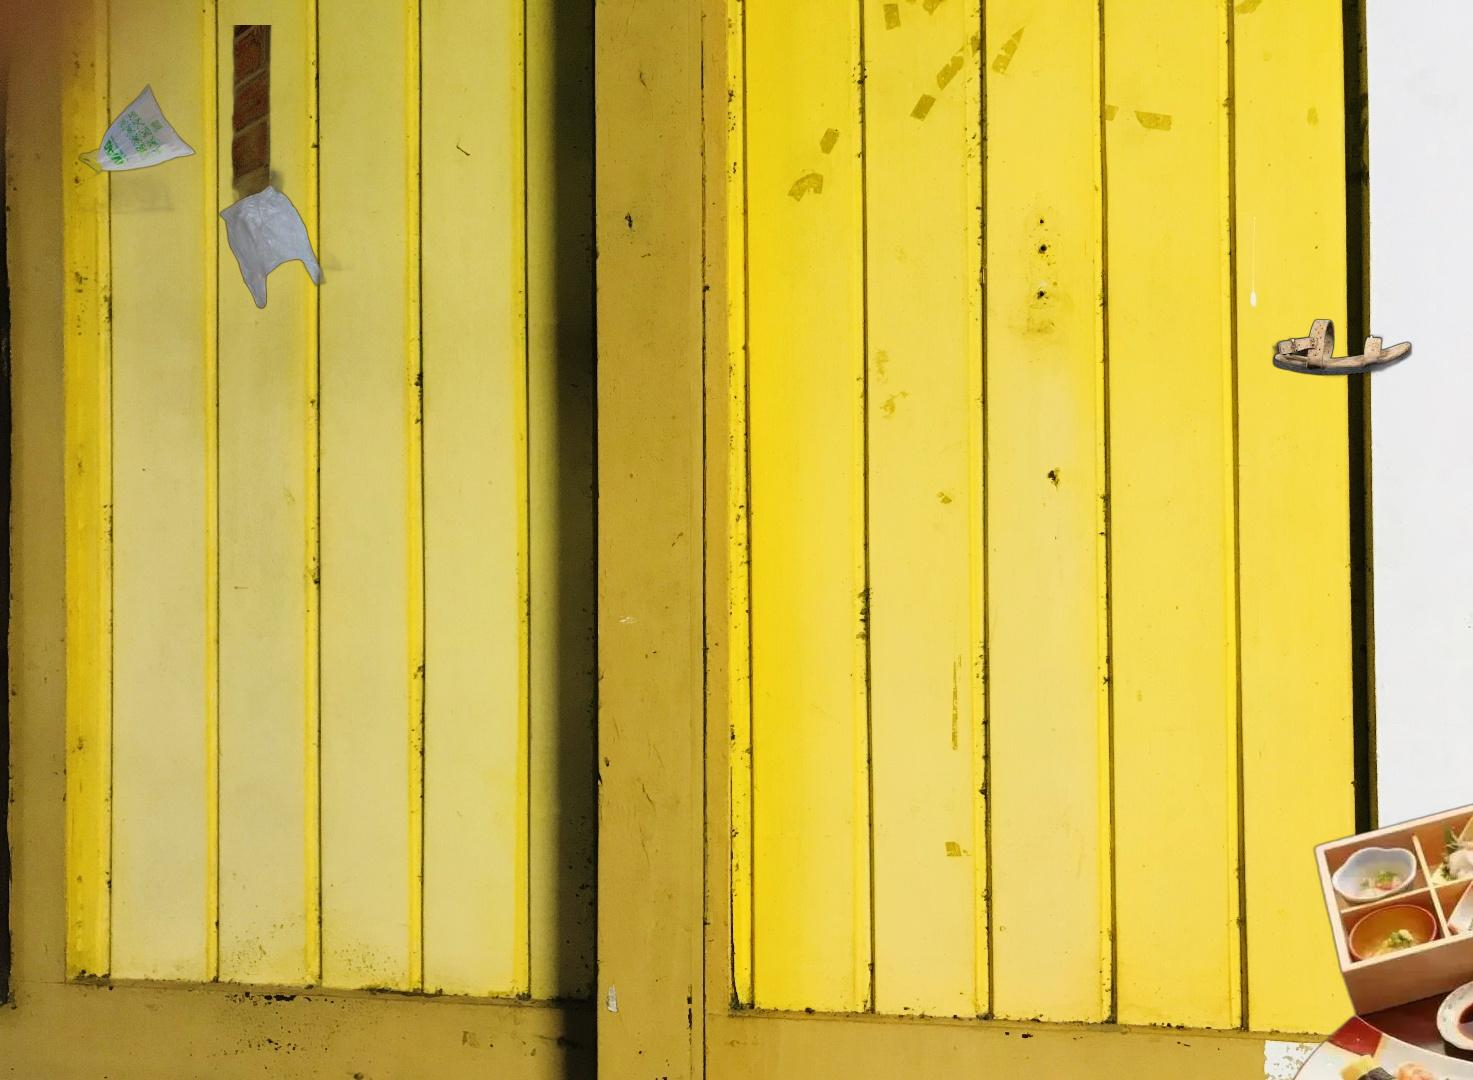biological: (1274, 785, 1473, 1080)
plastic-bag: (75, 25, 356, 313)
shoes: (1269, 317, 1416, 381)
